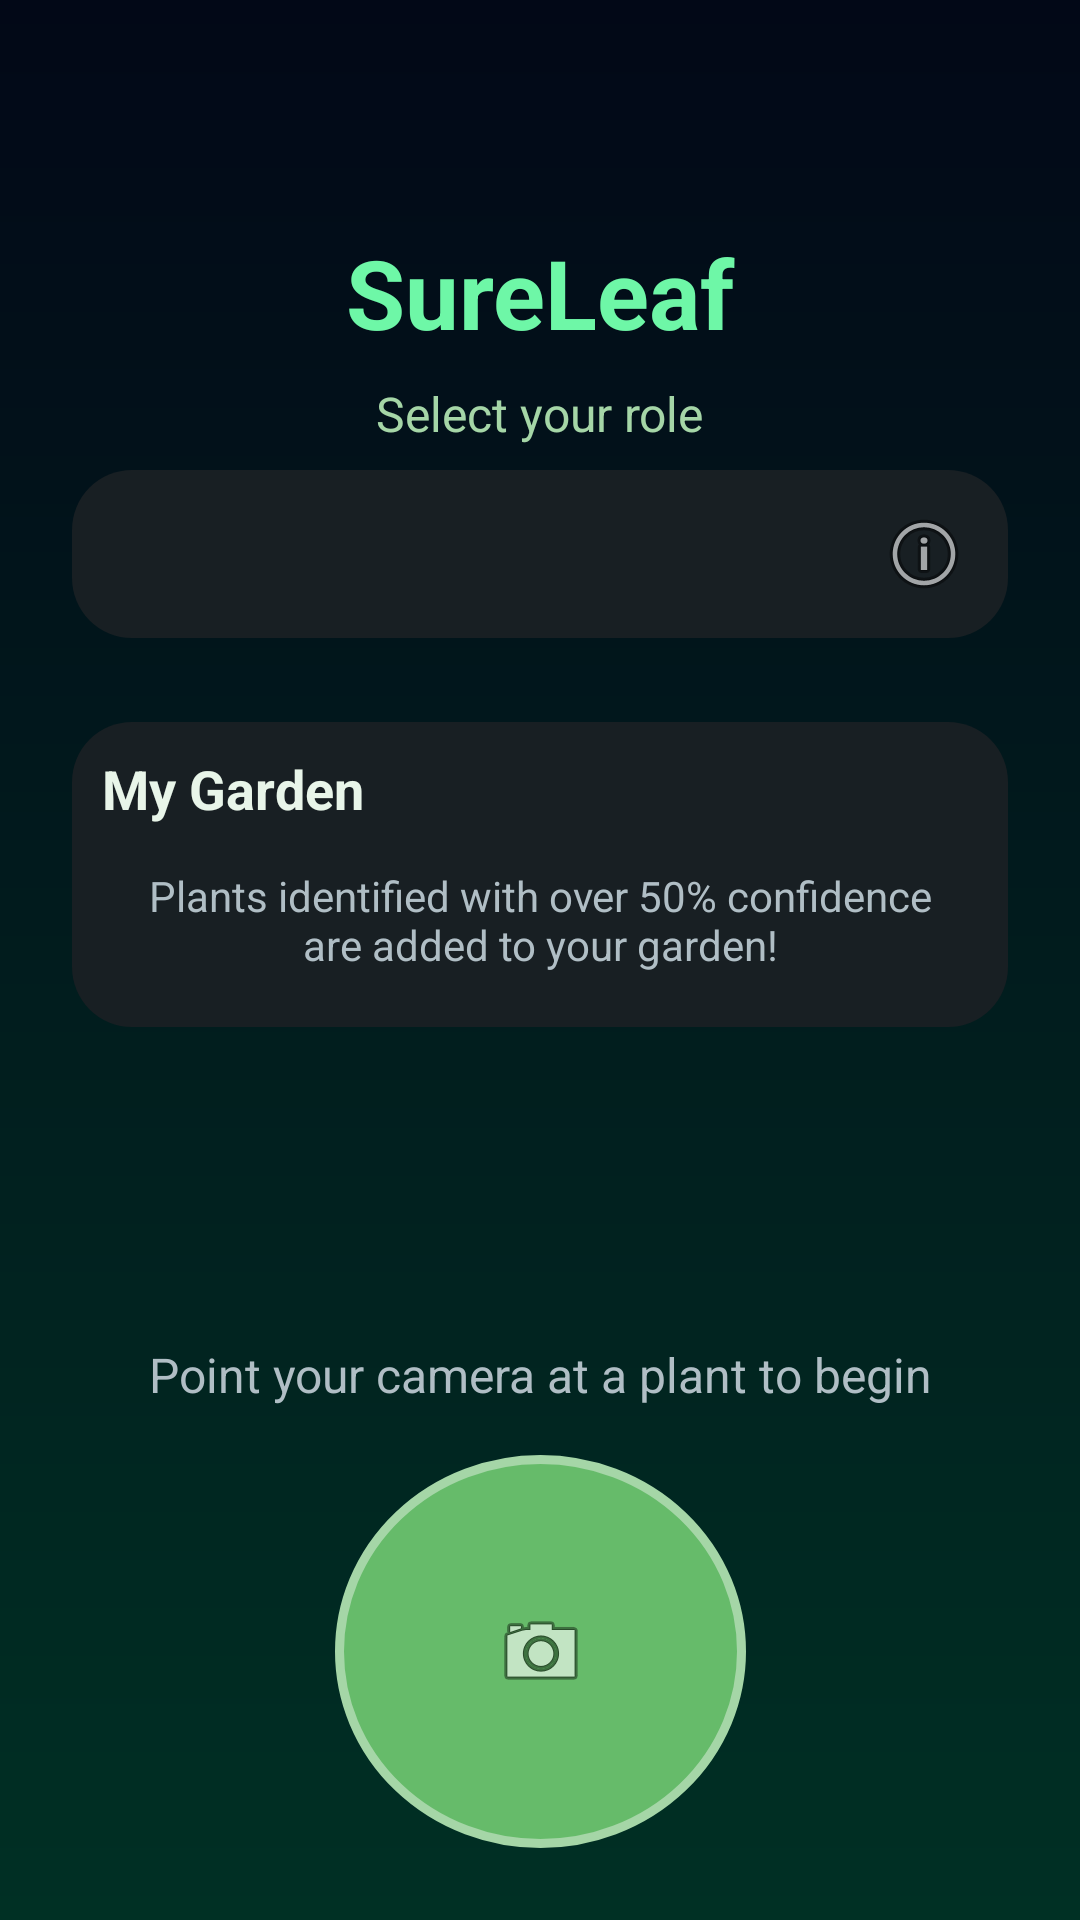

Locate icon controls on the screen. Image size 1080 × 1920, boxes as (left=x1, top=y1, right=x2, bottom=y2).
info details: (left=892, top=523, right=956, bottom=586)
